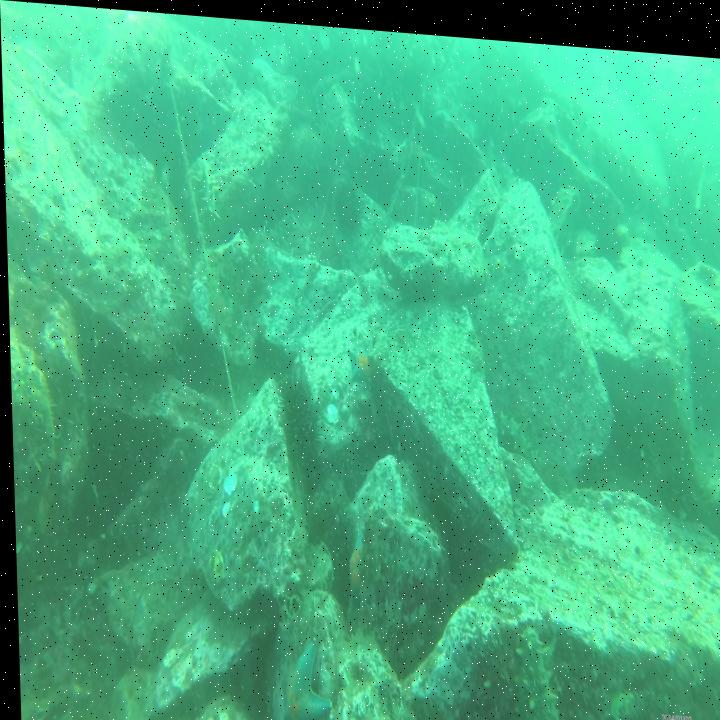echinus: (274, 363, 325, 488), (329, 168, 367, 244), (288, 117, 325, 184), (345, 92, 380, 140)
holothurian: (511, 611, 576, 720), (492, 398, 533, 457), (193, 152, 221, 218), (264, 209, 298, 247), (599, 684, 631, 716)
starfish: (268, 625, 329, 720), (342, 514, 368, 615), (345, 335, 375, 379)
